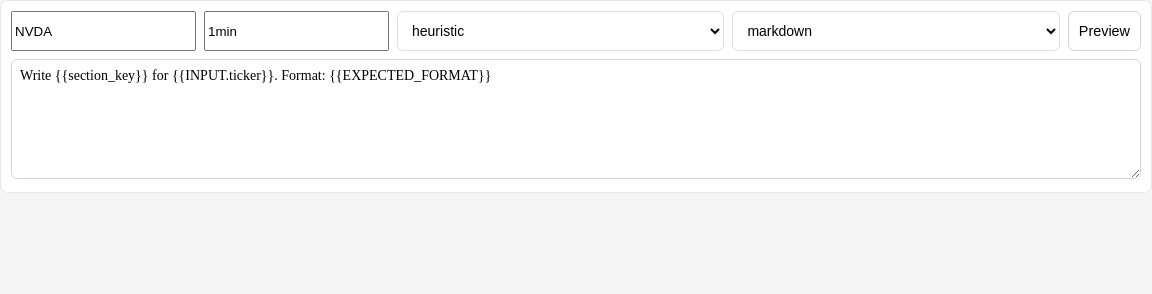
Test: SectionPreview exposes critical testids
This screenshot has width=1152, height=294.
Expected: the field with test id "admin-prev-ticker" is shown, [11, 11, 196, 51]
Expected: the field with test id "admin-prev-timeframe" is shown, [204, 11, 389, 51]
Click the button with test id "admin-prev-run" at x=1104, y=31, box [1068, 11, 1141, 51]
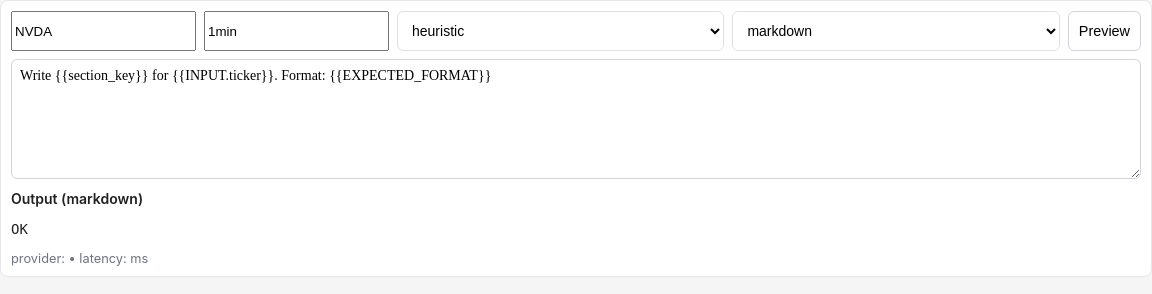
Expected: the text with test id "admin-prev-output" reads "OK", [11, 221, 28, 237]
